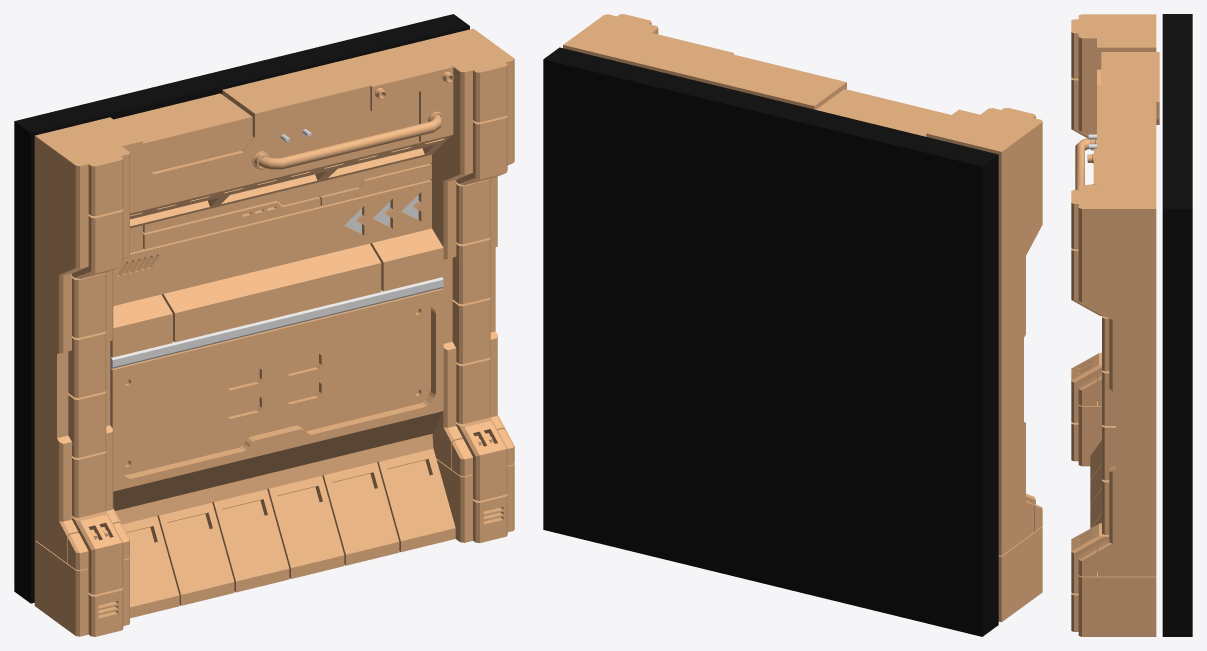
The model's file is panel_high2-1.fbx.
3 views of the same model, side by side, from view 1: azimuth 30°, elevation 25°; view 2: azimuth 150°, elevation 25°; view 3: azimuth 270°, elevation 25° (orthographic). The views are drawn at different scales.
Parts seen in each view (by area): view 1: panel.002; view 2: panel.002; view 3: panel.002.
Part boxes in pixels (left/top/right/bottom): panel.002: left=14, top=14, right=514, bottom=636; panel.002: left=543, top=14, right=1042, bottom=636; panel.002: left=1071, top=14, right=1192, bottom=636.
Bounding box in the file's own units: 2540 × 2600 × 668.
